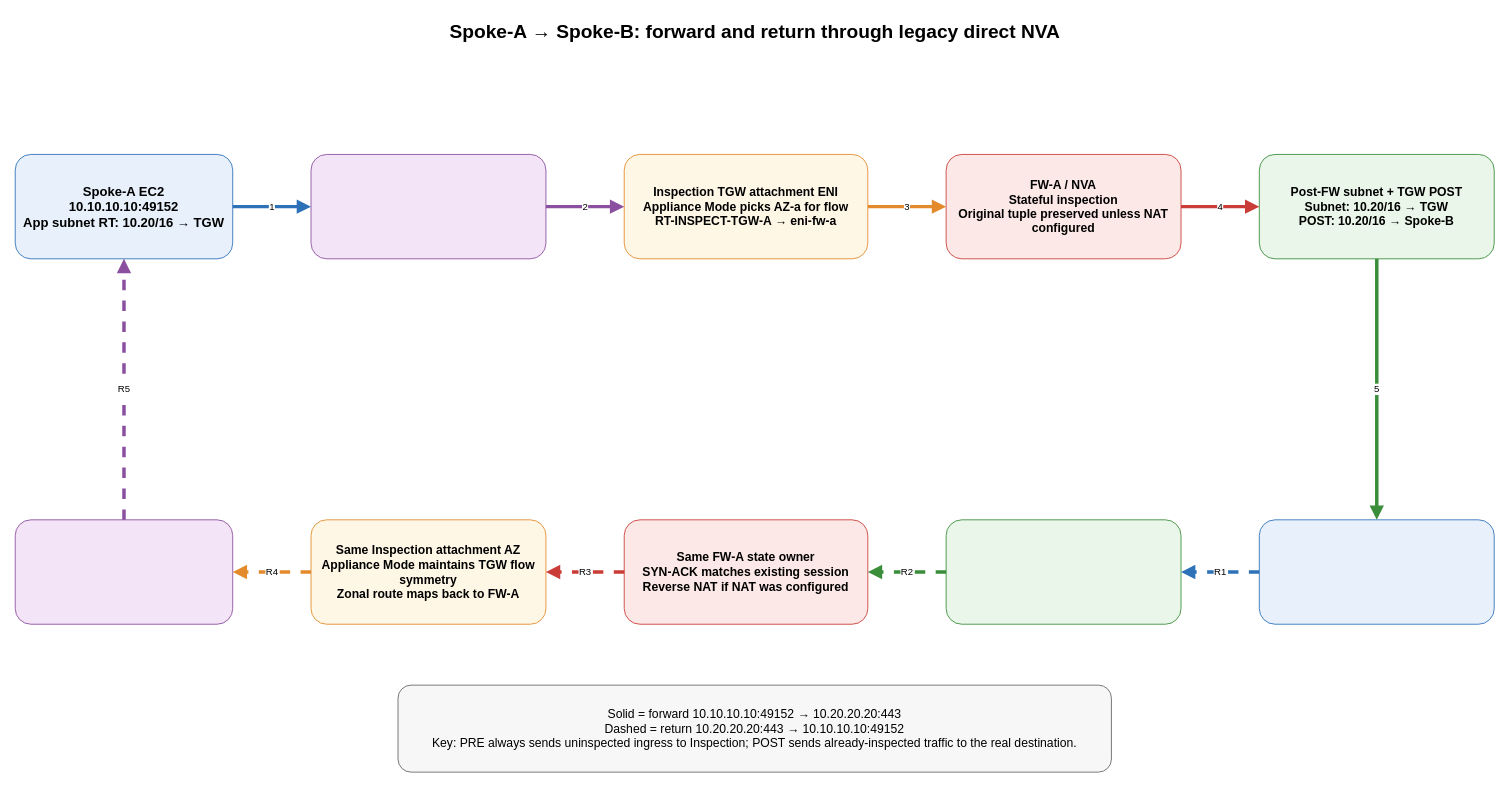
Image size: 1509x787. Some labels were removed from this diagram. The box of each missing label's shape, as (x1, y1, x2, y2) in pixels:
Reverse POST lookup After FW: 10.10/16 → Spoke-A: (945, 519, 1181, 624)
Spoke-B EC2 10.20.20.20:443 Local VPC delivery: (1258, 519, 1494, 624)
TGW PRE lookup Ingress attachment: Spoke-A 10.20/16 → Inspection attachment: (310, 154, 546, 259)
TGW PRE lookup Ingress attachment: Spoke-B 10.10/16 → Inspection attachment: (14, 519, 233, 624)
